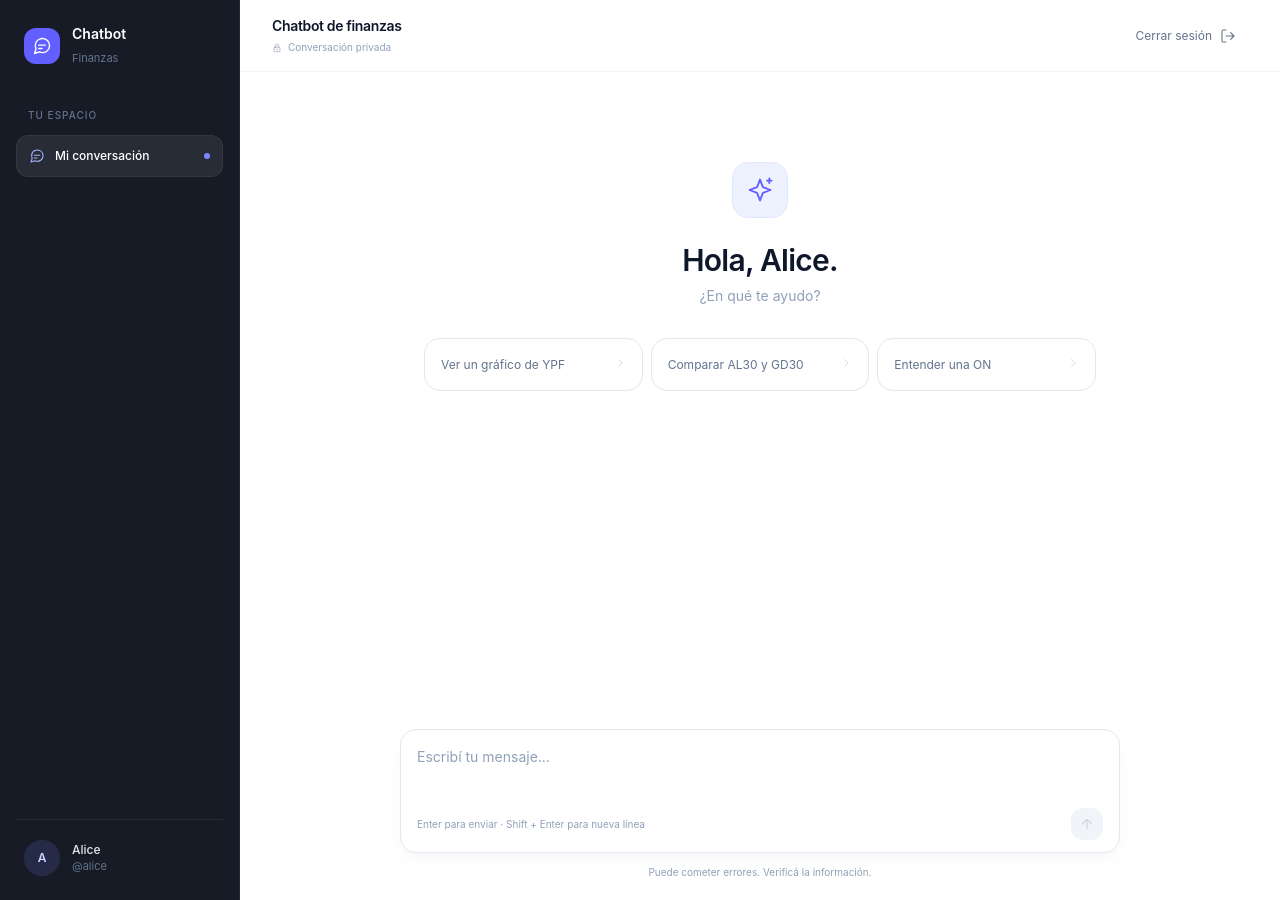
Test: chat lifecycle › unlocks the composer after HTTP/stream failure 409
Type "A finance question" into the text box labelled "tu mensaje". click: (760, 770)
box: [417,746,1103,794]
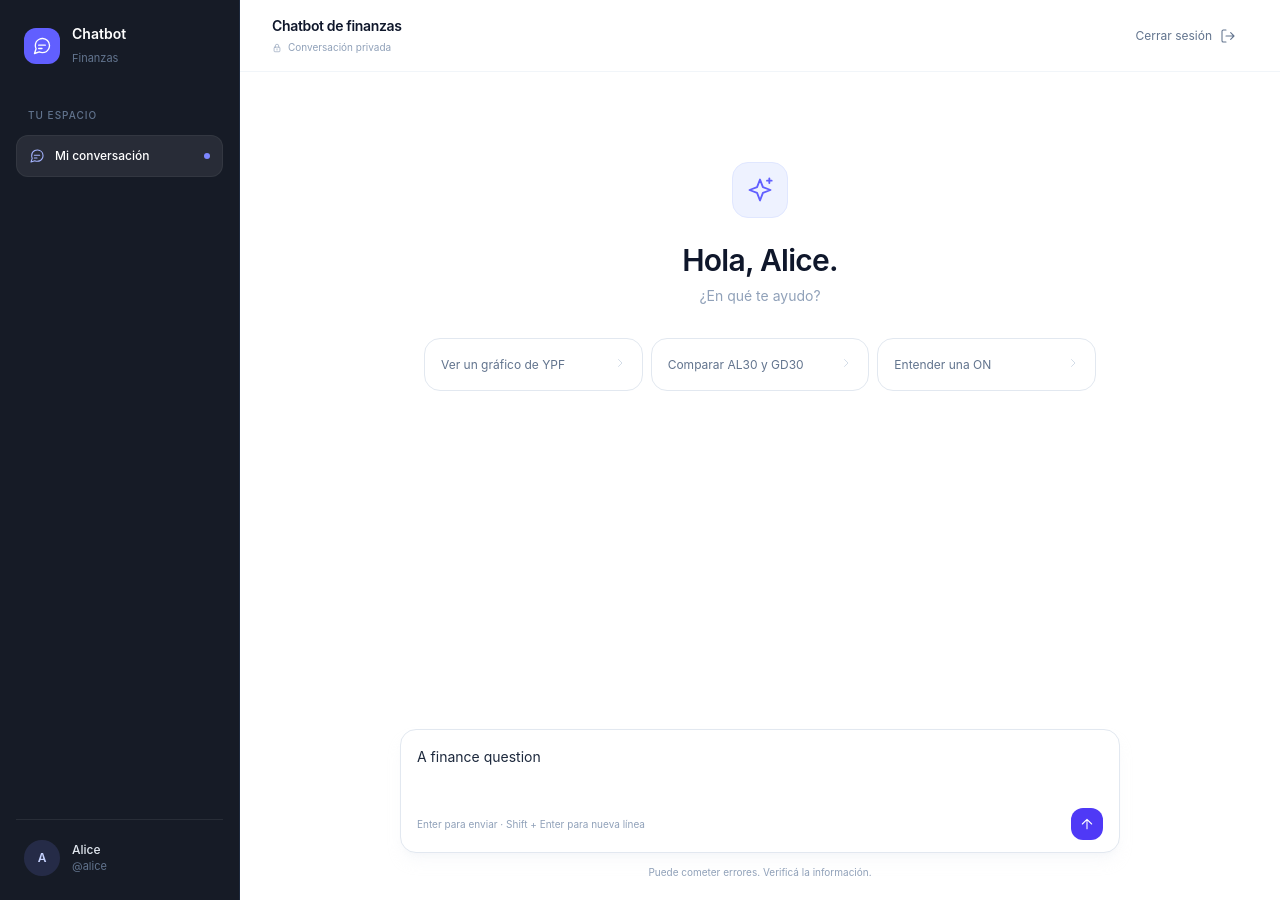
Submit the form named "Tu mensaje", box [400,729,1120,853]
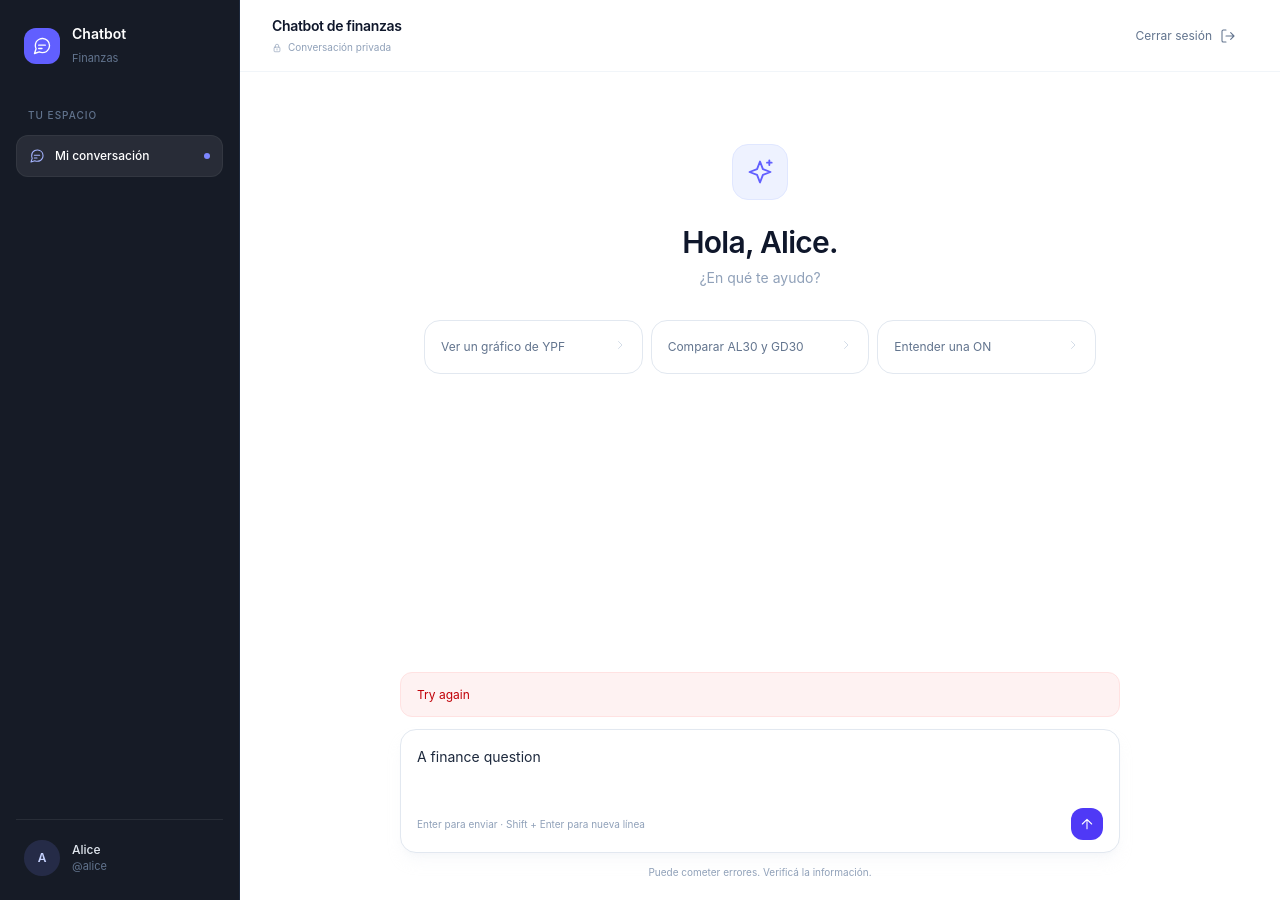
Expected: the text box named "tu mensaje" is enabled, [417,746,1103,794]
Expected: the message reads "Try again", [417,686,470,702]
